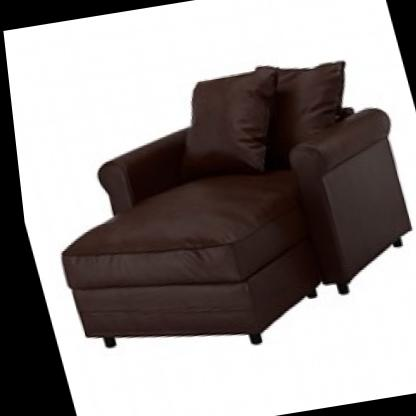Sofa: (0, 1, 416, 404)
